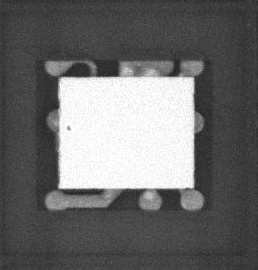DIE_INK: (62, 129, 70, 138)
